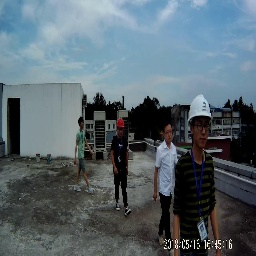helmet: (187, 94, 215, 123), (115, 117, 127, 129)
no-helmet: (163, 121, 172, 135), (76, 116, 86, 127)
no-vest: (183, 148, 214, 224), (159, 140, 177, 191), (115, 133, 127, 171), (77, 127, 87, 153)
person: (174, 91, 218, 244), (153, 121, 176, 248), (108, 119, 131, 218), (73, 114, 94, 196)
